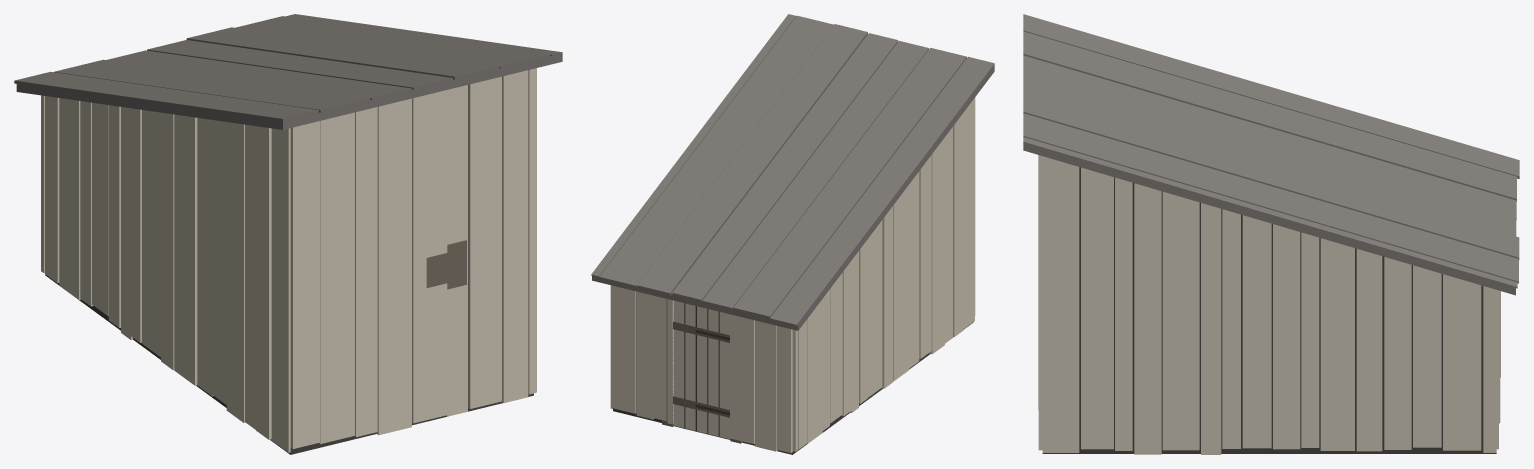
File: recon_1835_blk_washington_lasalle_a4_11__inferred_1835.glb
3 views of the same model, side by side, from view 1: azimuth 30°, elevation 25°; view 2: azimuth 150°, elevation 25°; view 3: azimuth 270°, elevation 25° (orthographic). The views are drawn at different scales.
Visible parts, largest first — view 1: recon_1835_blk_washington_lasalle_a4_11__inferred_1835; view 2: recon_1835_blk_washington_lasalle_a4_11__inferred_1835; view 3: recon_1835_blk_washington_lasalle_a4_11__inferred_1835.
Part boxes in pixels (box(x1,y1,x2,y2)): recon_1835_blk_washington_lasalle_a4_11__inferred_1835: box(14, 14, 562, 454); recon_1835_blk_washington_lasalle_a4_11__inferred_1835: box(591, 14, 994, 454); recon_1835_blk_washington_lasalle_a4_11__inferred_1835: box(1023, 14, 1519, 454).
Size of the model in its own units: 3.09 by 3.68 by 5.14.
